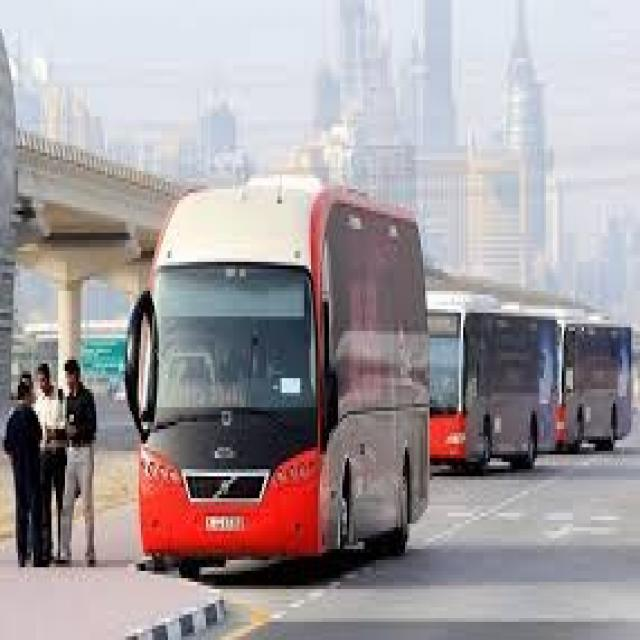bus: (119, 152, 438, 584), (430, 267, 550, 469), (542, 298, 640, 466)
